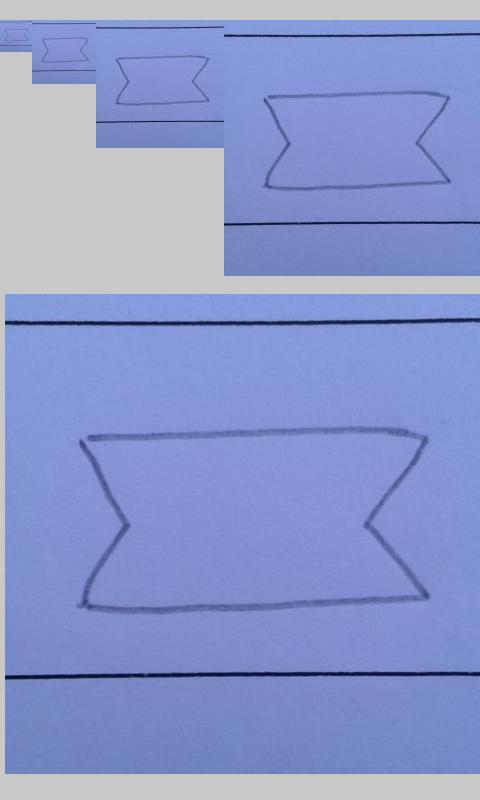edit_text: (78, 423, 426, 617), (263, 89, 451, 191), (114, 54, 210, 106), (41, 37, 89, 63), (4, 28, 29, 42)
